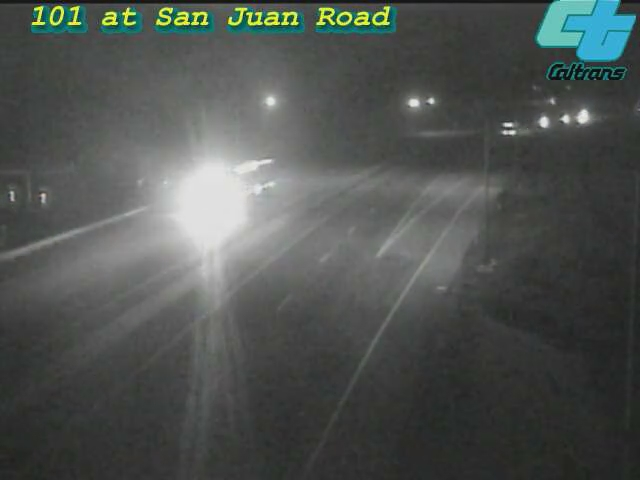vehicle: (184, 153, 264, 233), (558, 93, 608, 143), (484, 102, 534, 152), (519, 97, 569, 147), (562, 90, 612, 140), (539, 94, 589, 144)
